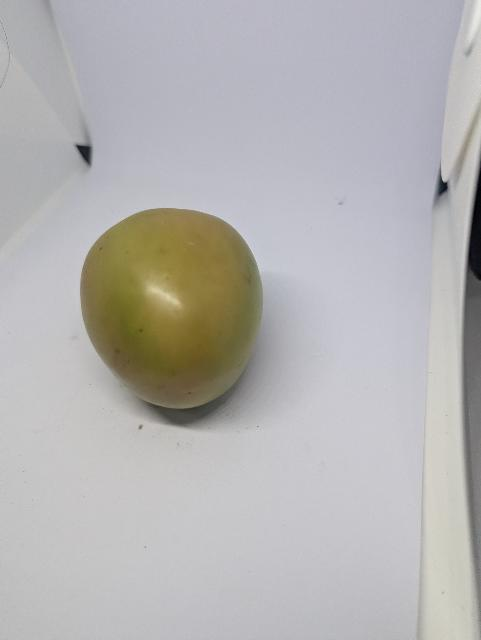breaker: (74, 207, 268, 421)
